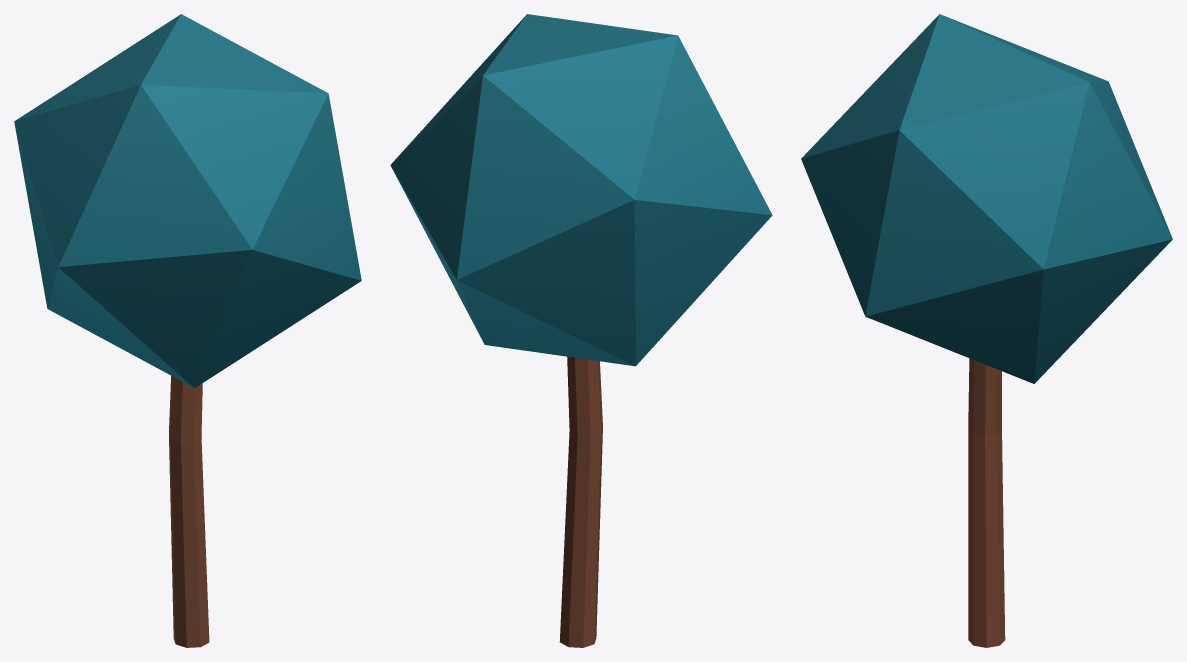
The model's file is Tree_40_gradient_blue_vc.fbx.
3 renders of one model, left to right at view 1: azimuth 30°, elevation 25°; view 2: azimuth 150°, elevation 25°; view 3: azimuth 270°, elevation 25°, orthographic. The views are drawn at different scales.
Parts seen in each view (by area): view 1: Tree_40_gradient_blue_vc; view 2: Tree_40_gradient_blue_vc; view 3: Tree_40_gradient_blue_vc.
Boxes of the visible parts, bbox=[...] form: Tree_40_gradient_blue_vc: bbox=[14, 14, 361, 647]; Tree_40_gradient_blue_vc: bbox=[390, 14, 772, 647]; Tree_40_gradient_blue_vc: bbox=[801, 14, 1172, 647].
Bounding box in the file's own units: 110 × 196 × 112.
